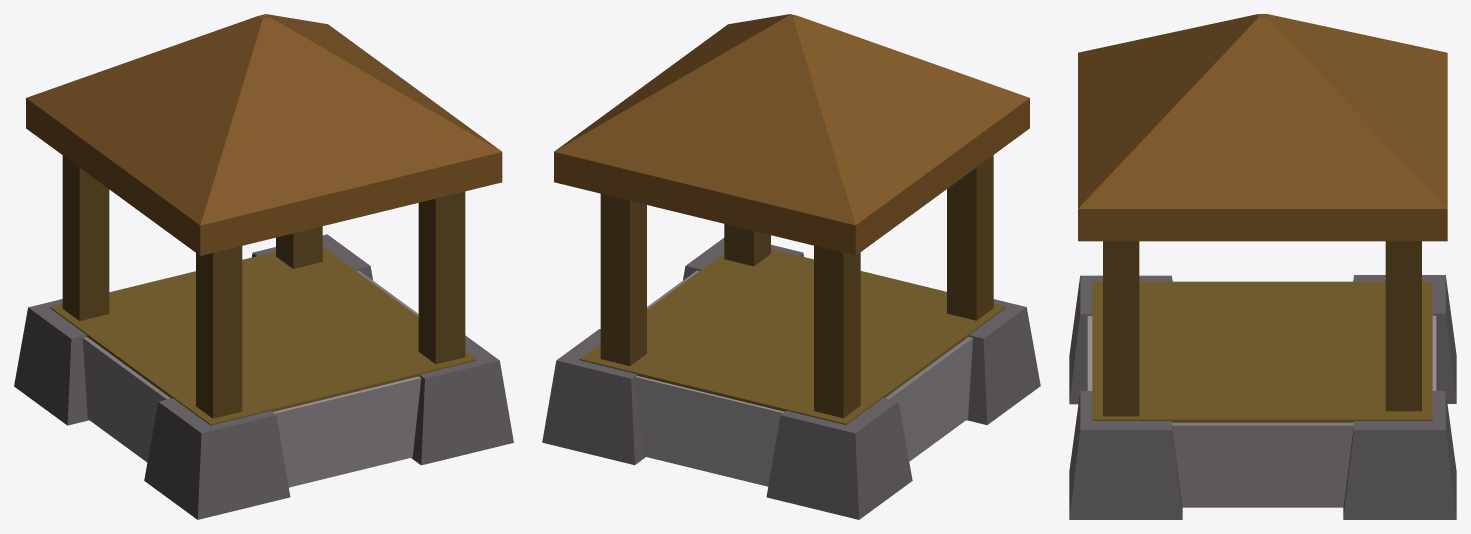
The model's file is Boogschutterstoren.fbx.
The picture shows the model from 3 angles, left to right: view 1: azimuth 30°, elevation 25°; view 2: azimuth 150°, elevation 25°; view 3: azimuth 270°, elevation 25°; orthographic projection. The views are drawn at different scales.
Parts seen in each view (by area): view 1: Cube.010, Cube.009, Cube.004, Cube.011, Cube.008; view 2: Cube.010, Cube.009, Cube.004, Cube.011, Cube.008; view 3: Cube.010, Cube.009, Cube.004, Cube.008, Cube.011.
Part boxes in pixels (x1=…): Cube.010: x1=26, y1=14, x2=502, y2=255; Cube.009: x1=50, y1=247, x2=476, y2=425; Cube.004: x1=14, y1=234, x2=513, y2=519; Cube.011: x1=62, y1=155, x2=465, y2=418; Cube.008: x1=82, y1=270, x2=421, y2=487; Cube.010: x1=554, y1=14, x2=1029, y2=255; Cube.009: x1=579, y1=249, x2=1006, y2=424; Cube.004: x1=542, y1=238, x2=1040, y2=519; Cube.011: x1=600, y1=155, x2=993, y2=418; Cube.008: x1=635, y1=270, x2=972, y2=486; Cube.010: x1=1078, y1=14, x2=1447, y2=241; Cube.009: x1=1092, y1=281, x2=1432, y2=422; Cube.004: x1=1069, y1=275, x2=1456, y2=519; Cube.008: x1=1087, y1=315, x2=1436, y2=507; Cube.011: x1=1103, y1=241, x2=1421, y2=416.
Bounding box in the file's own units: 166 × 199 × 165.
